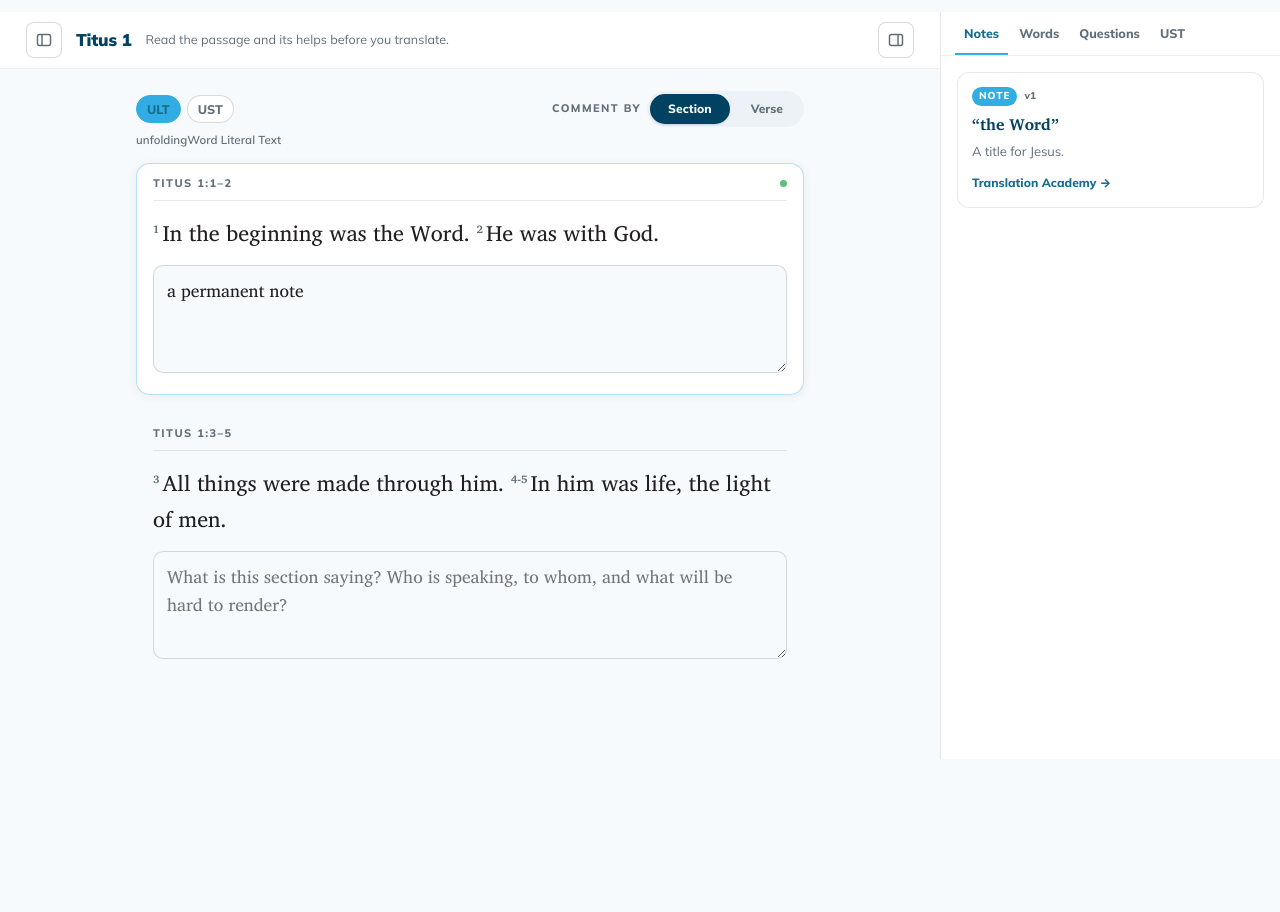
Test: 2026-08-27 adversarial round 7 regression › clearing a saved note is REFUSED: the text restores, the reason shows, the dirty mark reconciles, nothing writes (G1)
Clear the text box with placeholder "What is this section saying? Who is speaking, to whom, and what will be hard to render?": (470, 319) [153, 265, 787, 373]
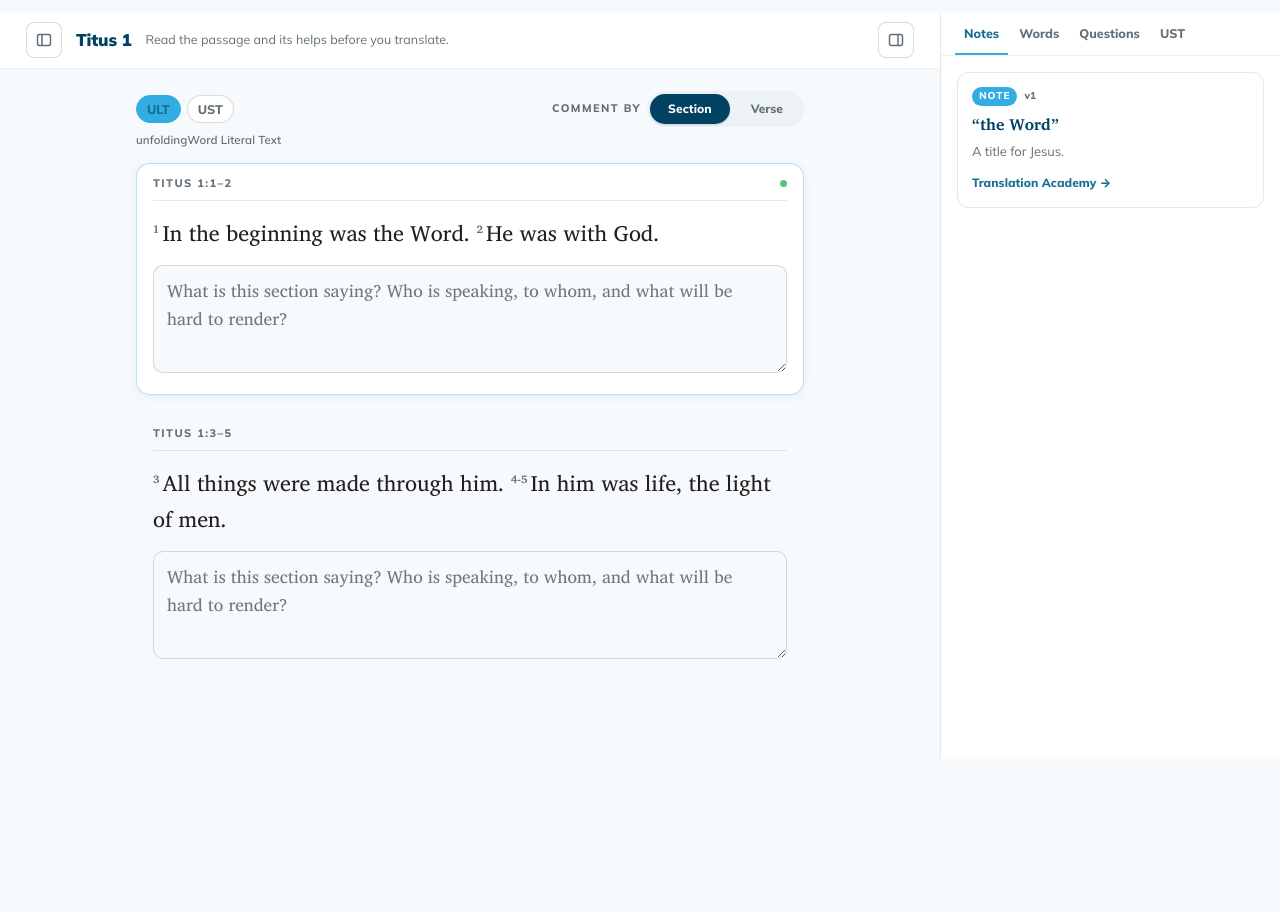
Leave the text box with placeholder "What is this section saying? Who is speaking, to whom, and what will be hard to render?" below "In the beginning was the Word.", box [153, 265, 787, 373]
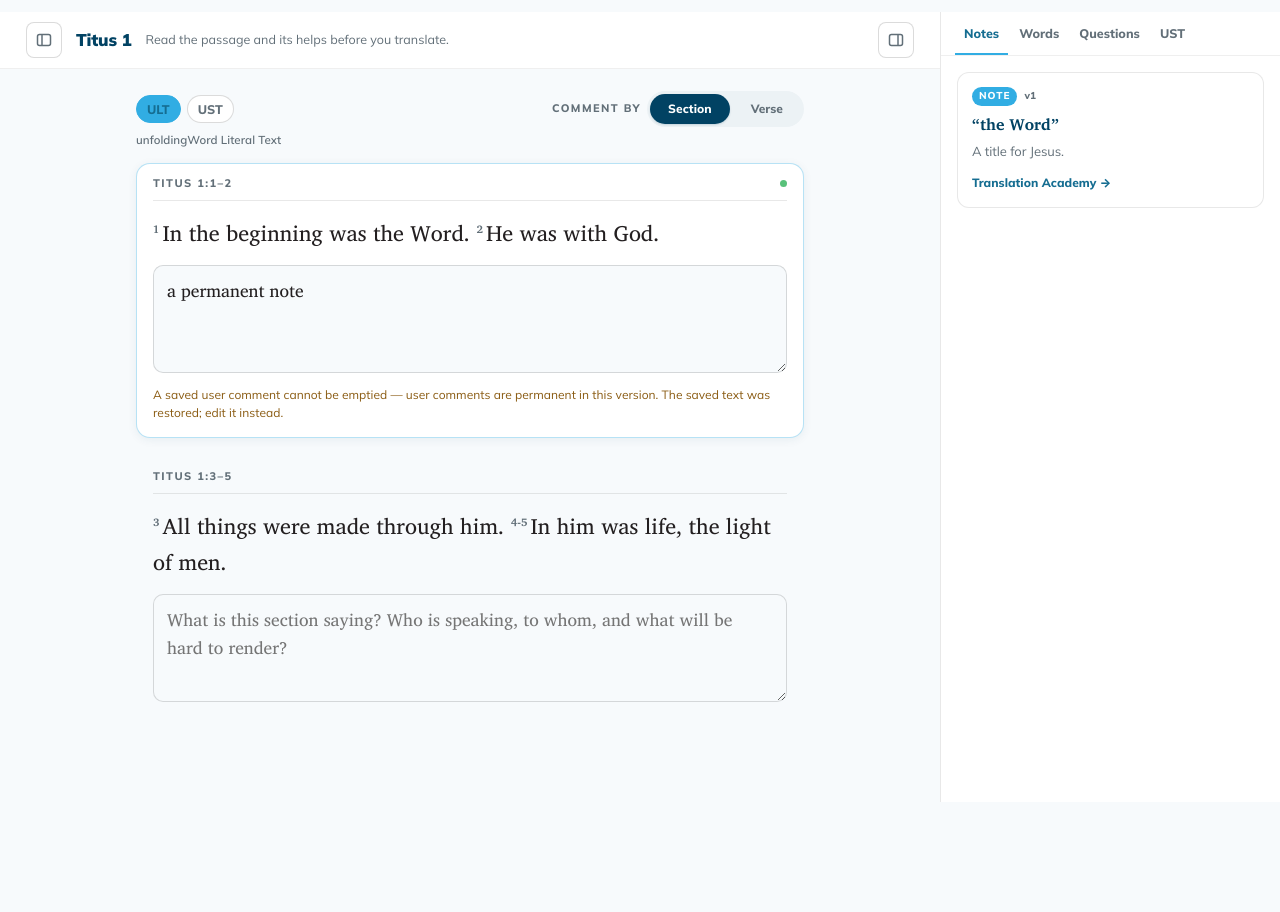
Expected: the text box with placeholder "What is this section saying? Who is speaking, to whom, and what will be hard to render?" holds "a permanent note", [153, 265, 787, 373]
Expected: the text with test id "understand-clear-refused" is shown, [153, 386, 787, 423]
